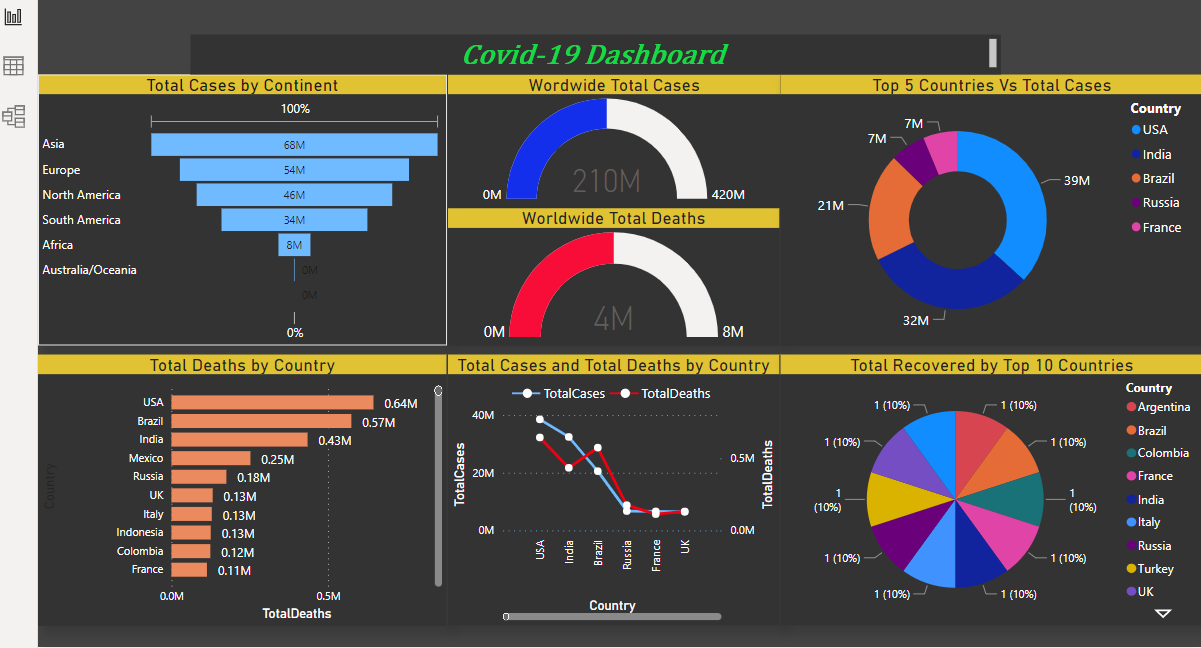

The page's visual inventory and layout, read from the dashboard file:
{"tool":"powerbi","page":{"name":"Page 1","canvas":[1280,720],"ordinal":0},"visuals":[{"type":"funnel","title":"Total Cases by Continent","fields":{"Category":["Table 2.Continent"],"Y":["Sum(Table 2.TotalCases)"]},"box":[0,90.6,449.1,298],"z":0},{"type":"gauge","title":"Wordwide Total Cases","fields":{"Y":["Sum(Table 2.TotalCases)"]},"box":[450.1,90.7,365.4,146.9],"z":1000},{"type":"gauge","title":"Worldwide Total Deaths","fields":{"Y":["Sum(Table 2.TotalDeaths)"]},"box":[450.5,237.6,363.9,151.1],"z":2000},{"type":"donutChart","title":"Top 5 Countries Vs Total Cases","fields":{"Y":["Sum(Table 2.TotalCases)"],"Category":["Table 2.Country,Other"]},"box":[815.5,90.7,464.5,298.5],"z":3000},{"type":"barChart","title":"Total Deaths by Country","fields":{"Category":["Table 2.Country"],"Y":["Sum(Table 2.TotalDeaths)"]},"box":[0,398.7,449.1,298],"z":4000},{"type":"lineChart","title":"Total Cases and Total Deaths by Country","fields":{"Category":["Table 2.Country"],"Y":["Sum(Table 2.TotalCases)"],"Y2":["Sum(Table 2.TotalDeaths)"]},"box":[450.1,398.8,364.2,297.3],"z":5000},{"type":"pieChart","title":"Total Recovered by Top 10 Countries","fields":{"Category":["Table 2.Country"],"Y":["CountNonNull(Table 2.TotalRecovered)"]},"box":[815.5,398.8,464.5,297.3],"z":6000},{"type":"textbox","box":[167.2,46.6,890.7,44.2],"z":7000}]}

Visuals, with their boxes on the page's 1280x720 design canvas (x1, y1, x2, y2). These are canvas units, not pixel positions in the 1201x648 screenshot, which may show the page scaled, cropped or inside an application window:
"Total Cases by Continent" funnel: locate(0, 91, 449, 389)
"Wordwide Total Cases" gauge: locate(450, 91, 816, 238)
"Worldwide Total Deaths" gauge: locate(450, 238, 814, 389)
"Top 5 Countries Vs Total Cases" donutChart: locate(816, 91, 1280, 389)
"Total Deaths by Country" barChart: locate(0, 399, 449, 697)
"Total Cases and Total Deaths by Country" lineChart: locate(450, 399, 814, 696)
"Total Recovered by Top 10 Countries" pieChart: locate(816, 399, 1280, 696)
textbox: locate(167, 47, 1058, 91)
